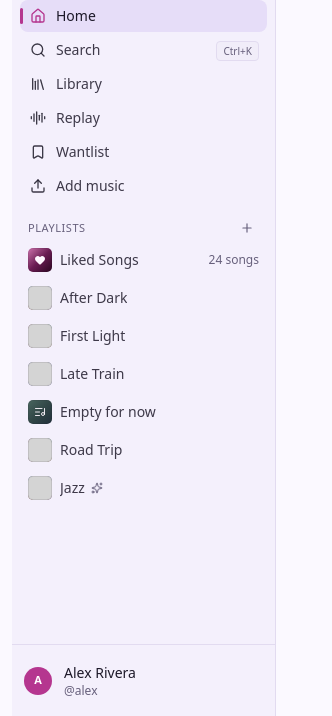
Scenario: Sidebar › goes to a page and says a link was followed
Click the link "Library" at (66, 84), box [30,74,102,93]
(page scrolled)
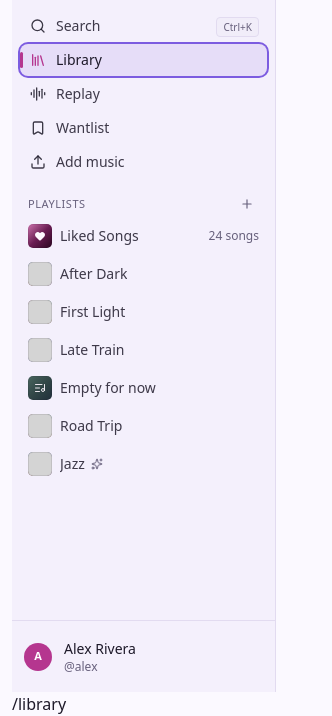
expect the text with test id "where" reads "/library": met, box [12,693,66,715]
